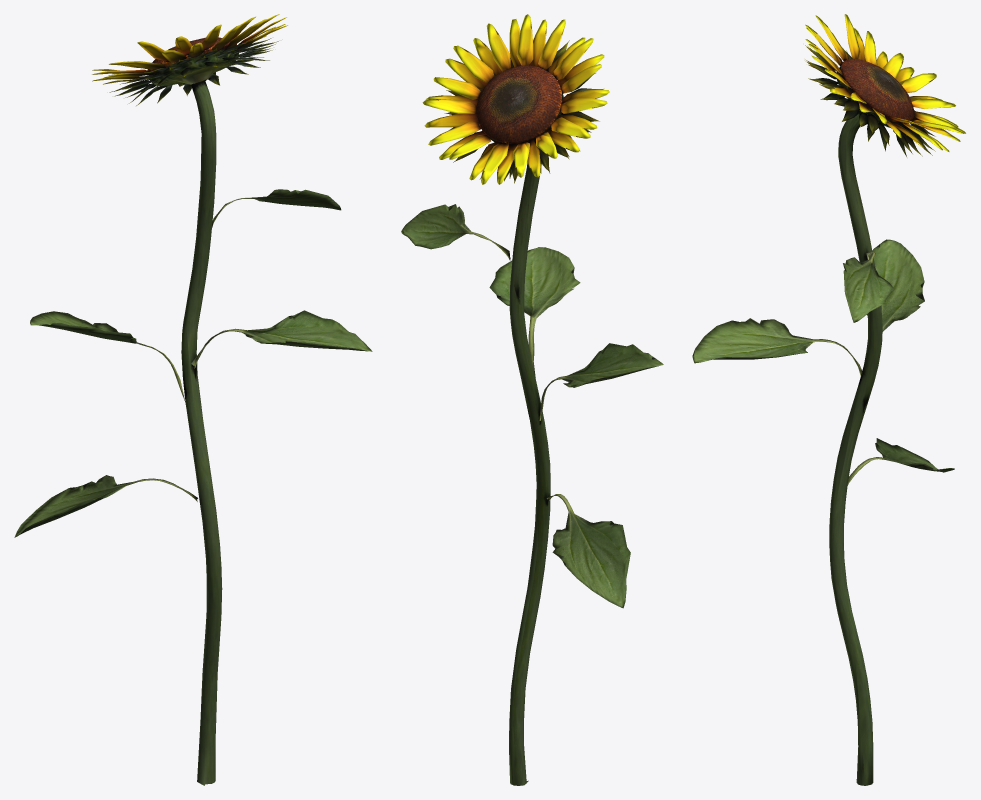
File: Girasole12.fbx
The picture shows the model from 3 angles, left to right: view 1: azimuth 30°, elevation 25°; view 2: azimuth 150°, elevation 25°; view 3: azimuth 270°, elevation 25°; orthographic projection. The views are drawn at different scales.
Parts seen in each view (by area): view 1: Girasole12; view 2: Girasole12; view 3: Girasole12.
Part boxes in pixels (x1,y1,x2,y2): Girasole12: (14, 14, 372, 785); Girasole12: (401, 14, 663, 785); Girasole12: (692, 14, 965, 785).
Bounding box in the file's own units: 26.27 × 67.02 × 22.22.
